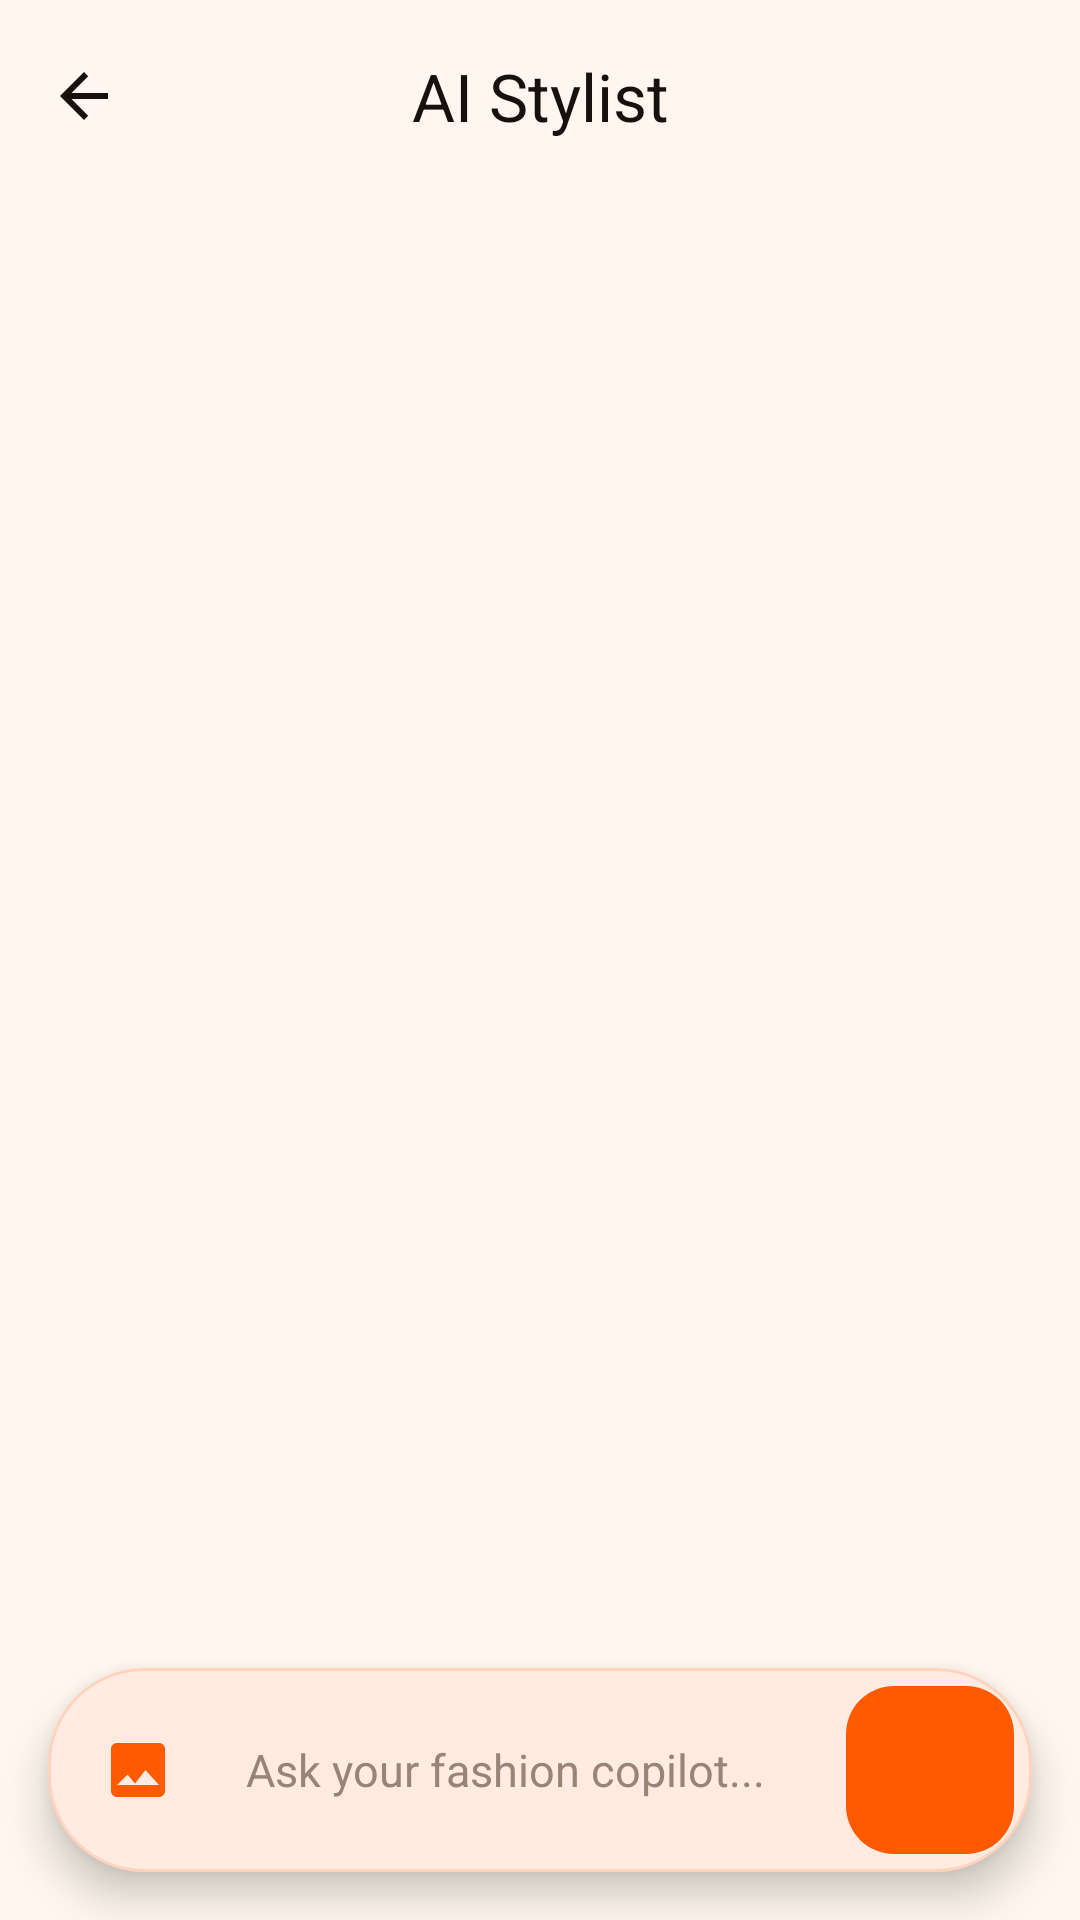

Where to tap for icons on this 1080 x 1920 app screen, as (x=x, y=y):
add photo: (x=138, y=1770)
